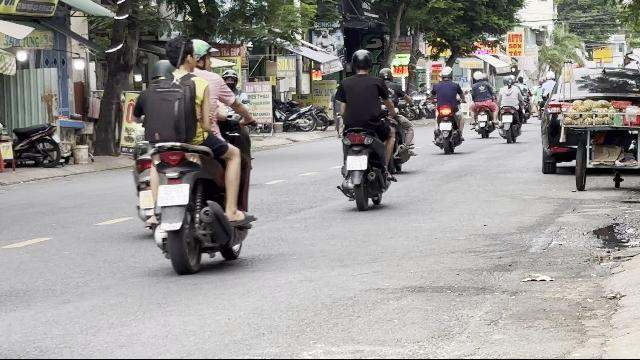helmet: (147, 58, 175, 86), (190, 38, 213, 70), (350, 49, 372, 73)
licenseplate: (158, 184, 188, 204), (346, 156, 366, 170)
motorcyclist: (127, 37, 259, 273), (332, 48, 398, 210)
nohelmet: (162, 38, 194, 70)
